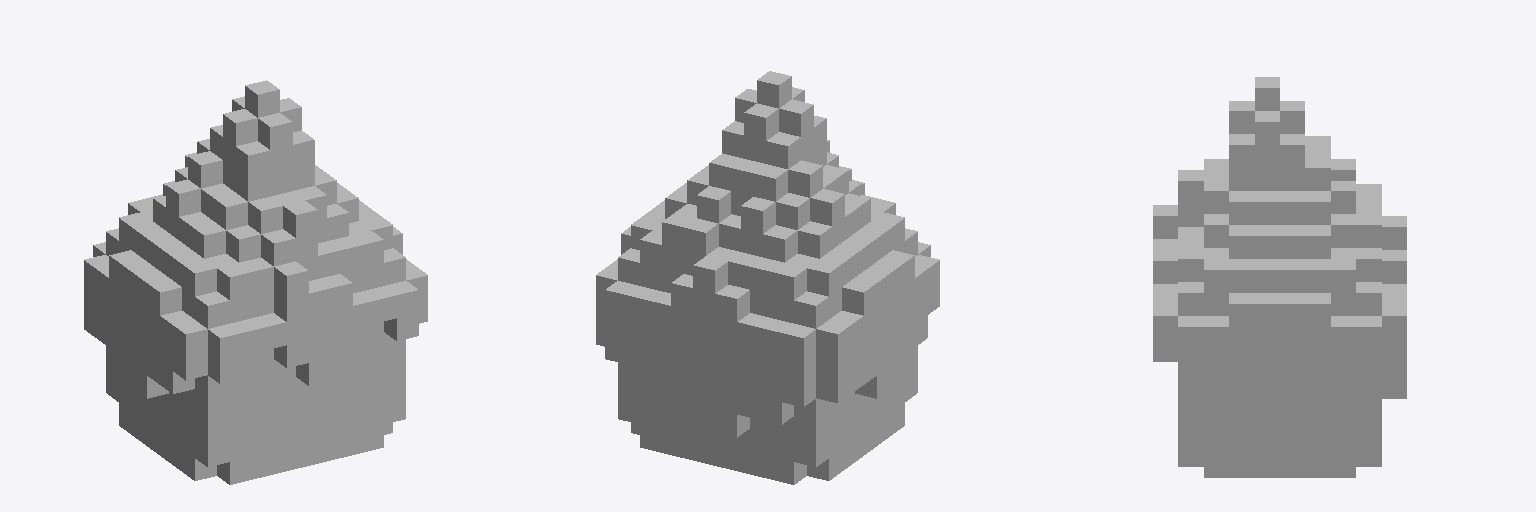
File: head.obj
The picture shows the model from 3 angles: view 1: azimuth 30°, elevation 25°; view 2: azimuth 150°, elevation 25°; view 3: azimuth 270°, elevation 25°; orthographic projection.
Visible parts, largest first — view 1: object 1; view 2: object 1; view 3: object 1.
Boxes of the visible parts, box(x1,y1,x2,y2) form: object 1: box(84, 80, 427, 484); object 1: box(596, 71, 939, 484); object 1: box(1153, 77, 1406, 477).
Bounding box in the file's own units: 1.1 × 1.5 × 1.